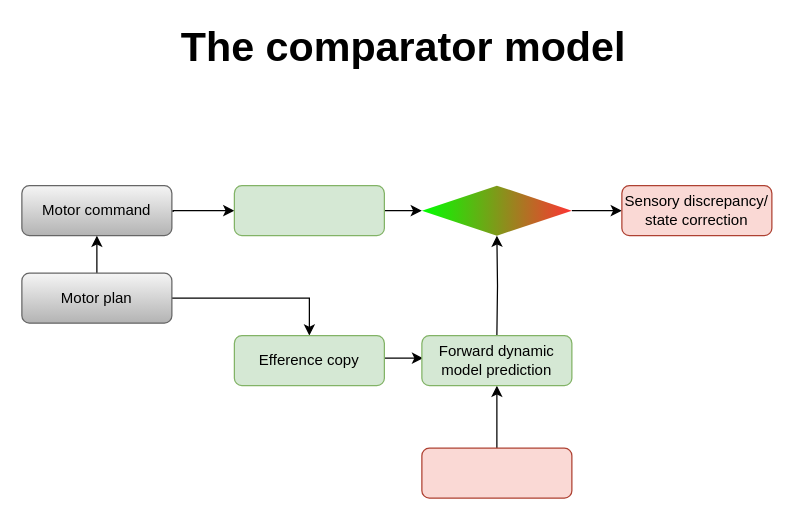
This 794x520 diagram has some shape labels left out. The shapes that lost their labels are listed below. From the top down, each one's box as (x1, y1, x2, y2) in pixels, then its label:
(233, 184, 384, 236): Sensory system
(421, 185, 571, 235): Comparator
(421, 447, 572, 498): Sensory outcome (reafference)
